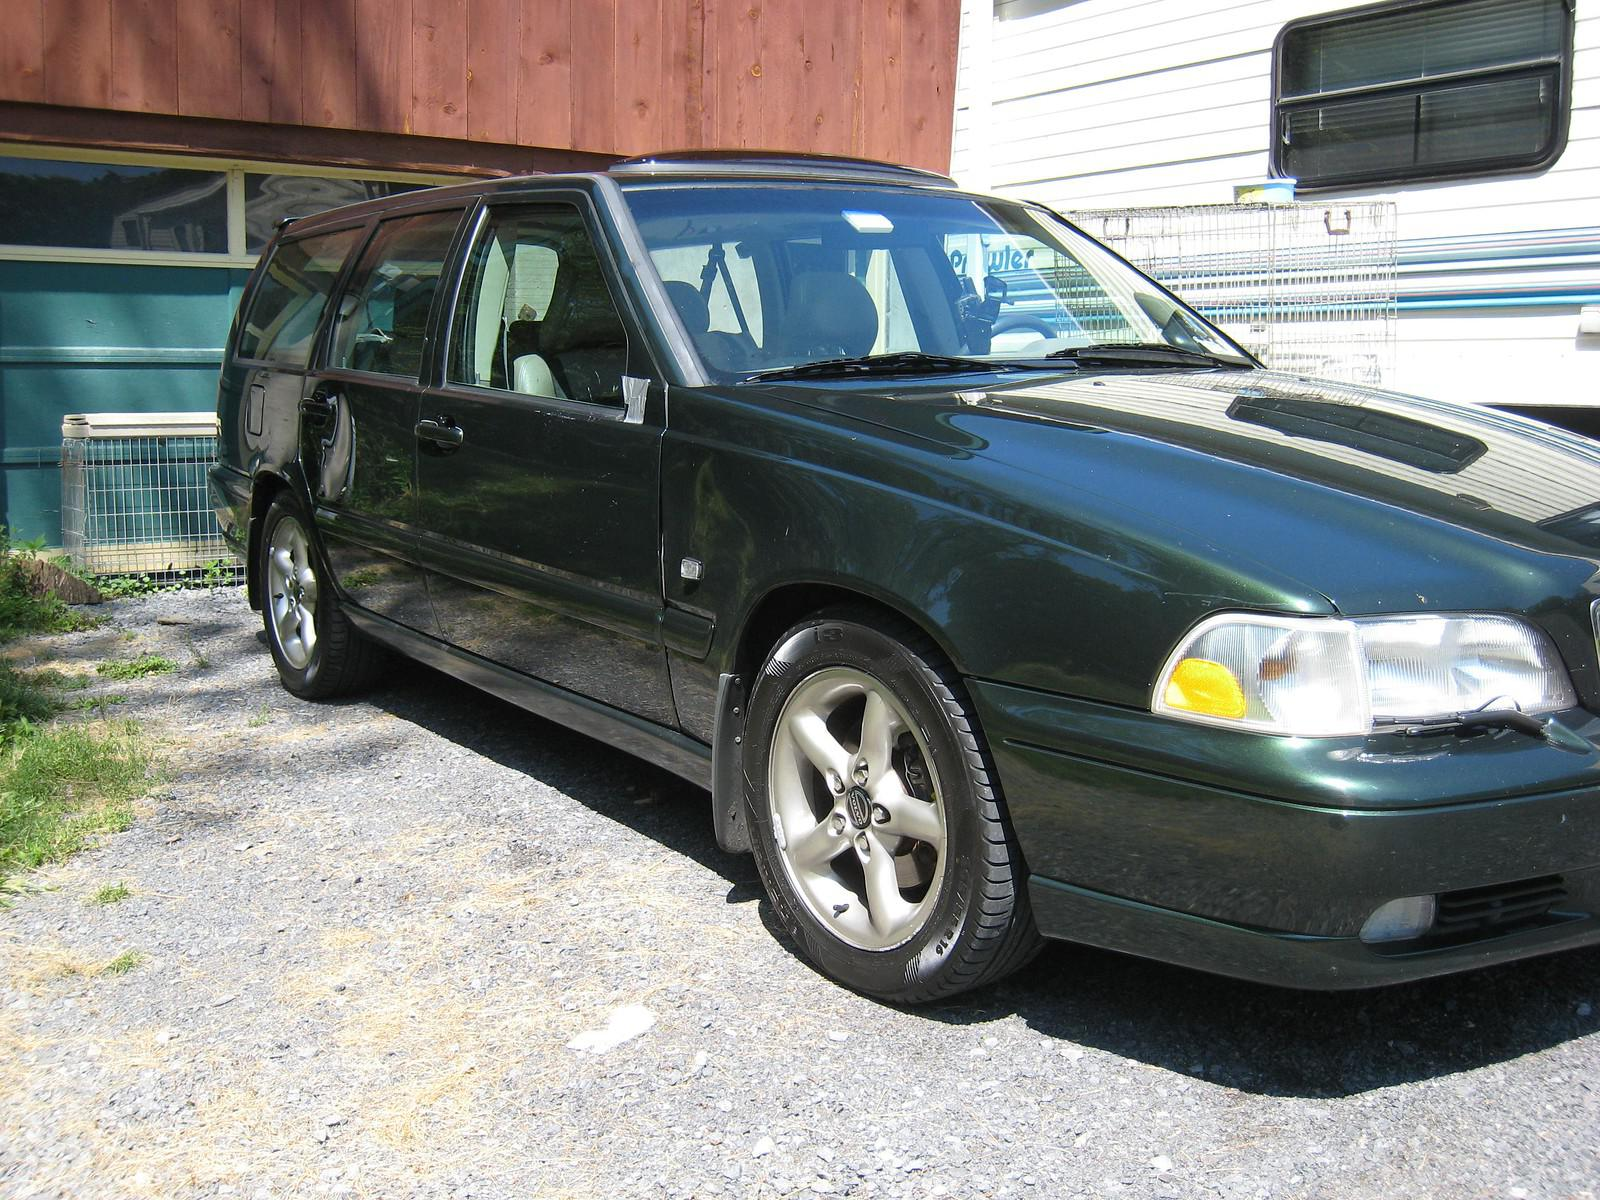fender-dent: (641, 434, 1112, 739)
